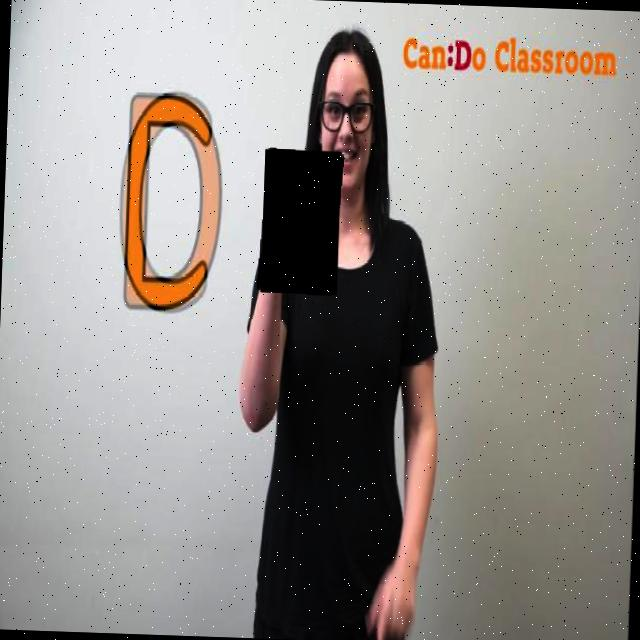C: (259, 150, 344, 297)
